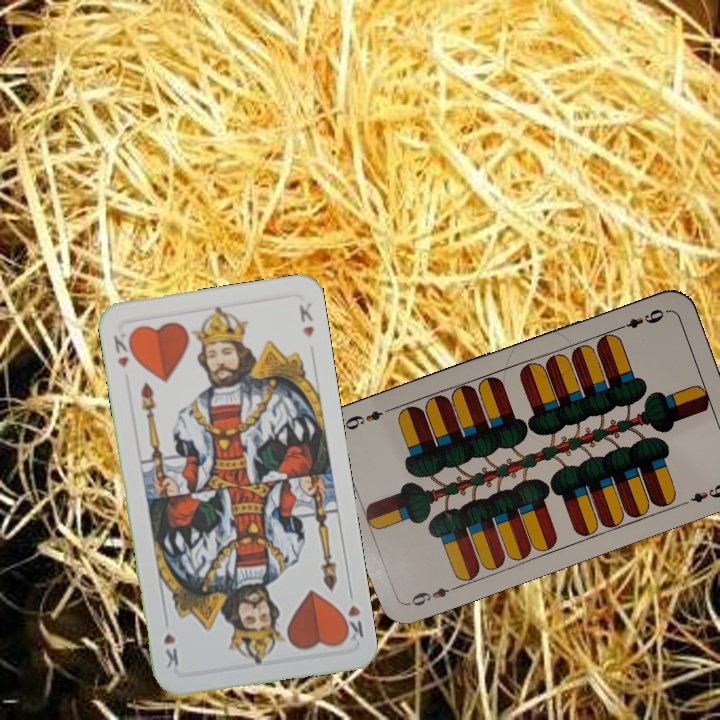E9: (404, 581, 461, 609), (612, 305, 667, 333)
HK: (336, 584, 367, 645), (109, 327, 138, 371)
